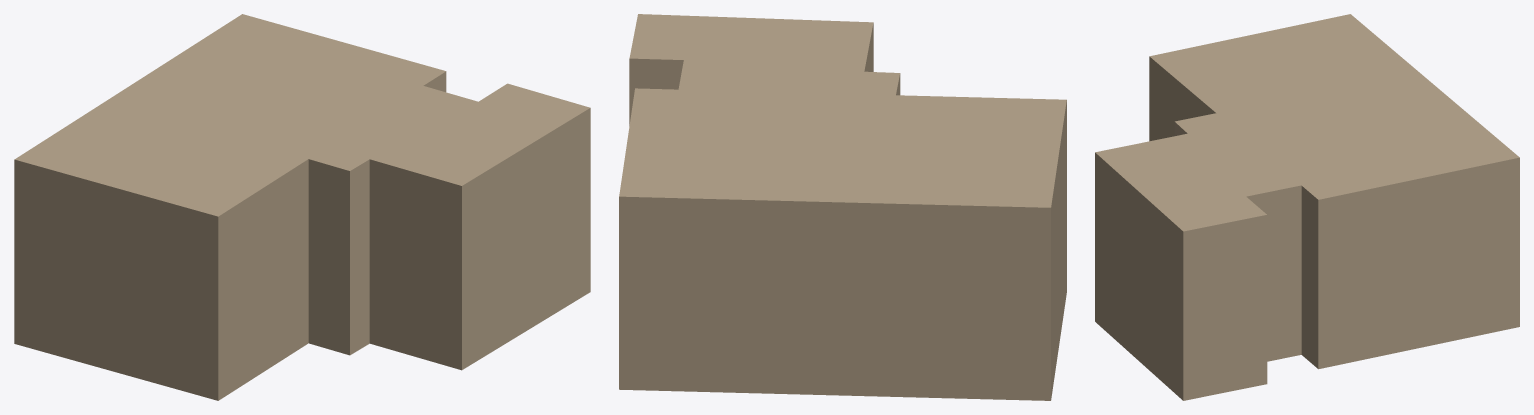
Rendered from bld_107610532.dae.
3 views of the same model, side by side, from view 1: azimuth 30°, elevation 25°; view 2: azimuth 150°, elevation 25°; view 3: azimuth 270°, elevation 25° (orthographic). The views are drawn at different scales.
Parts seen in each view (by area): view 1: Maldon Kitchens & Bathrooms; view 2: Maldon Kitchens & Bathrooms; view 3: Maldon Kitchens & Bathrooms.
Part boxes in pixels (<box>): Maldon Kitchens & Bathrooms: <box>14,14,590,400</box>; Maldon Kitchens & Bathrooms: <box>619,14,1066,400</box>; Maldon Kitchens & Bathrooms: <box>1095,14,1519,400</box>.
Bounding box in the file's own units: 22.03 × 18.18 × 8.
